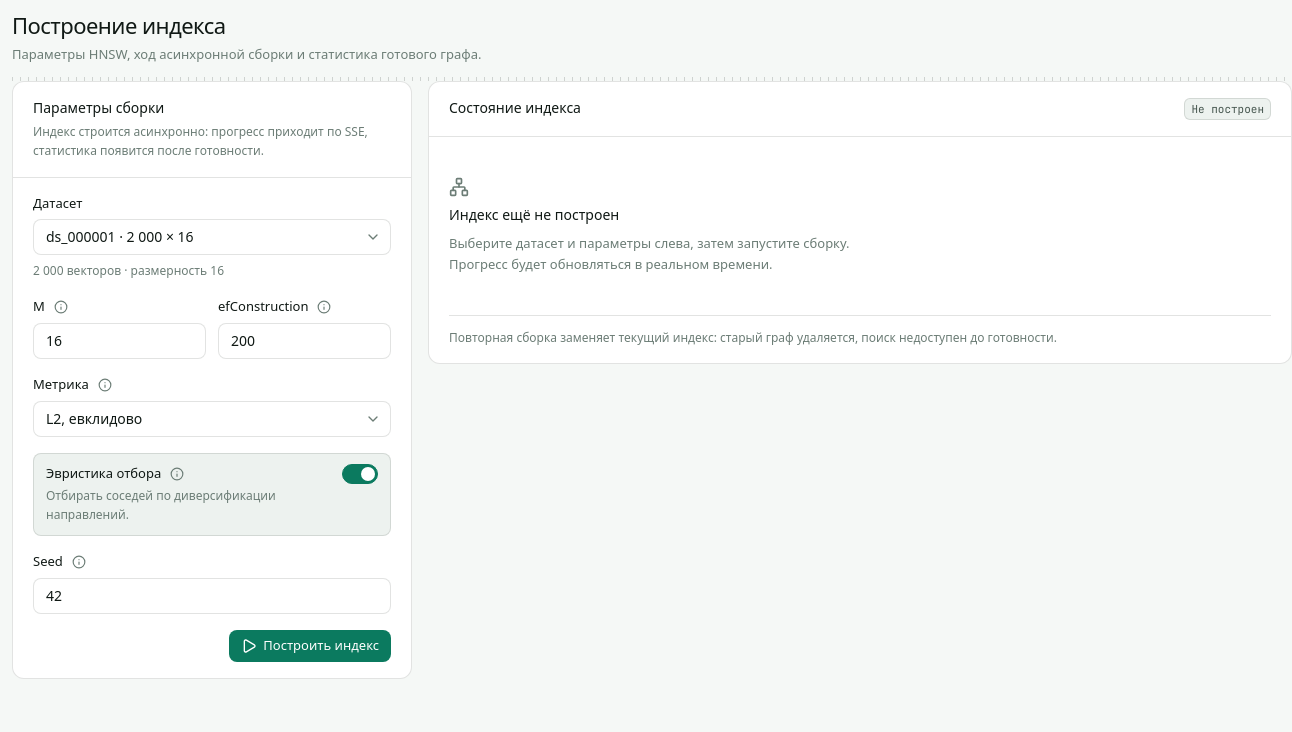
Scenario: IndexPage › validates M against the backend limits
Replace the text in the number field labelled "M" with "1": (120, 341) 33,323 -> 206,359
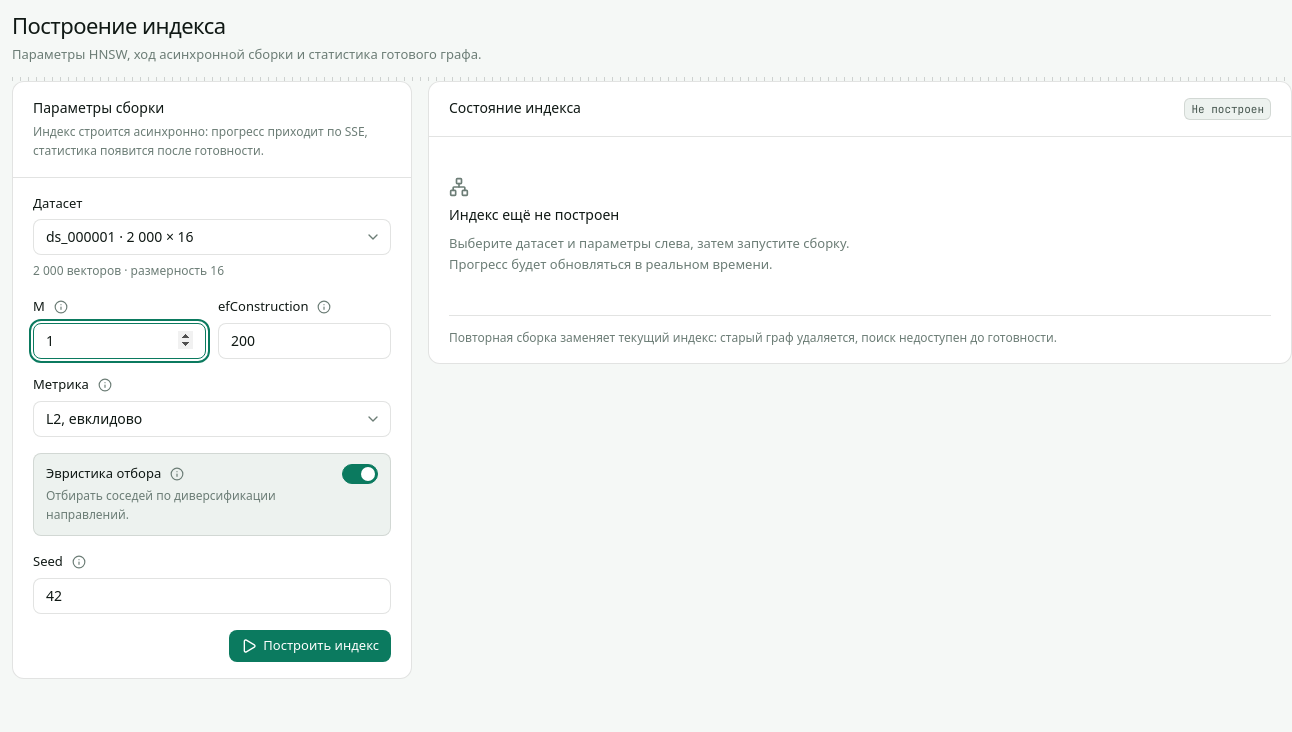
Click the button "Построить индекс": (310, 646) 229,630 -> 391,662
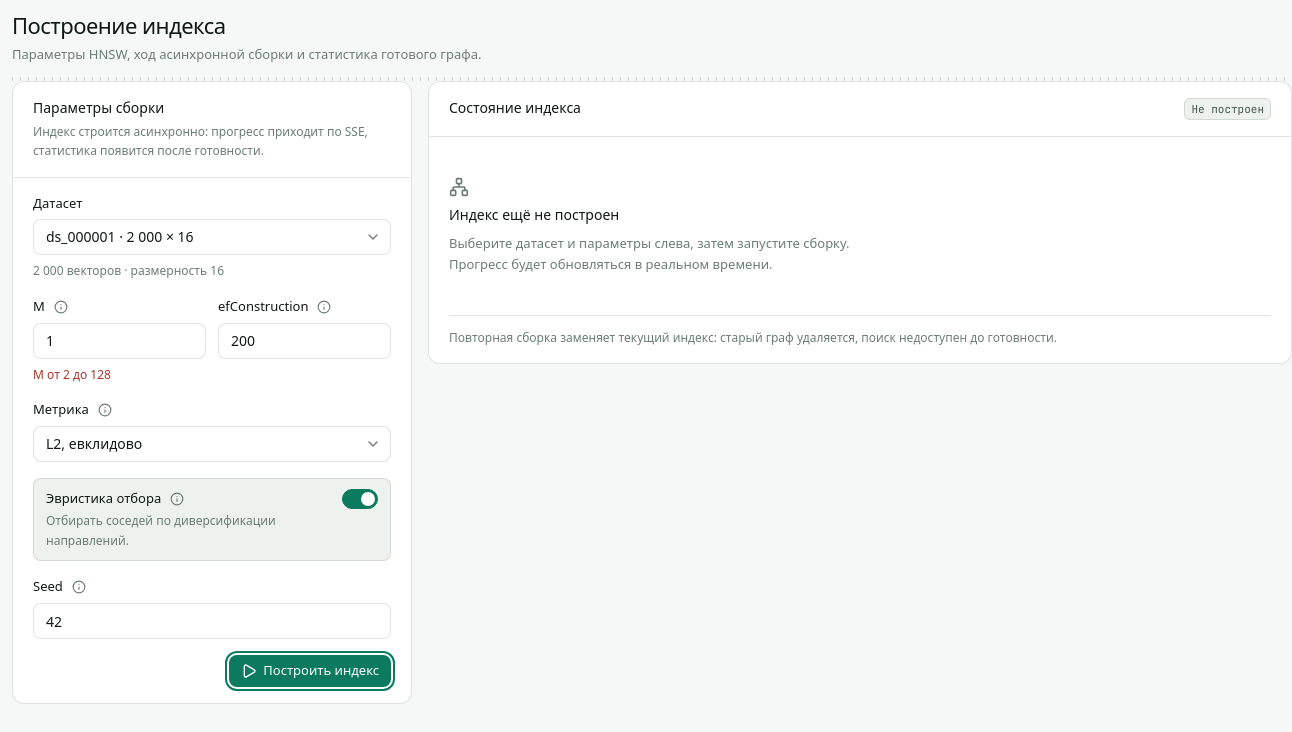
Expected: the text "M от 2 до 128" is shown, 33,366 -> 111,383
